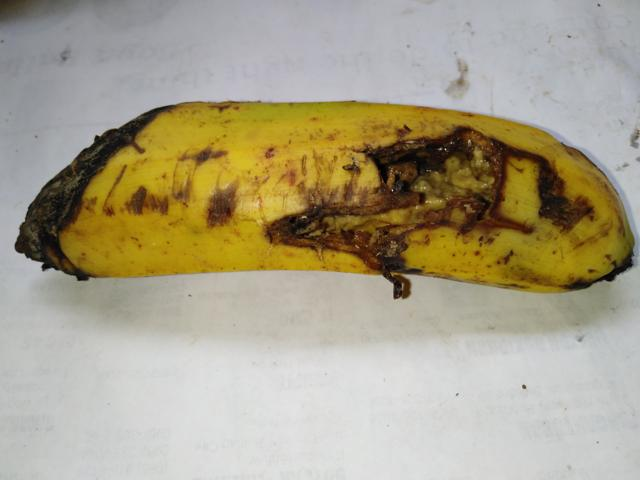rotten: (264, 77, 597, 334), (0, 74, 178, 318)
